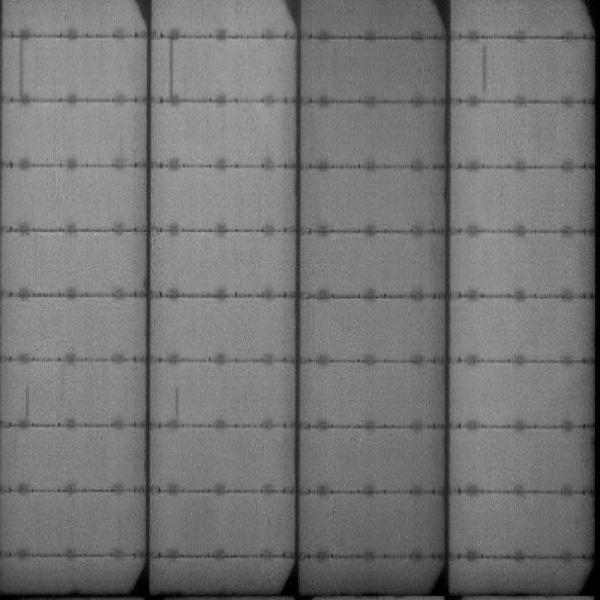scratch: (164, 36, 183, 96), (478, 36, 492, 95), (14, 38, 25, 97), (174, 386, 183, 423), (23, 388, 31, 425)
